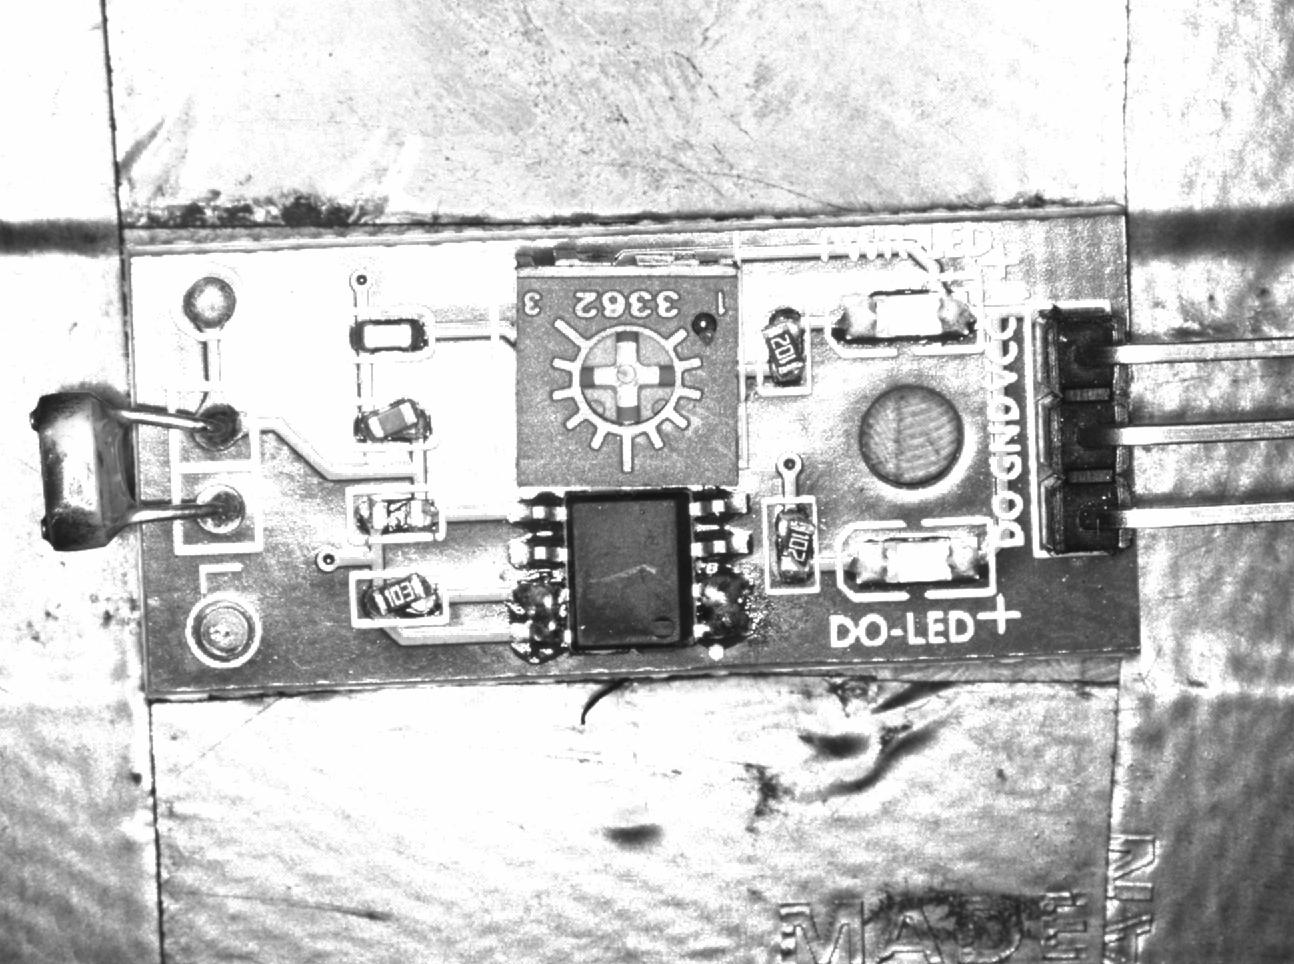bridge: (506, 577, 570, 666), (690, 577, 761, 646)
lifted: (762, 500, 820, 591), (353, 571, 453, 623), (759, 301, 814, 394), (346, 396, 438, 447)
miss: (350, 488, 447, 542)
ok: (341, 312, 435, 358)
